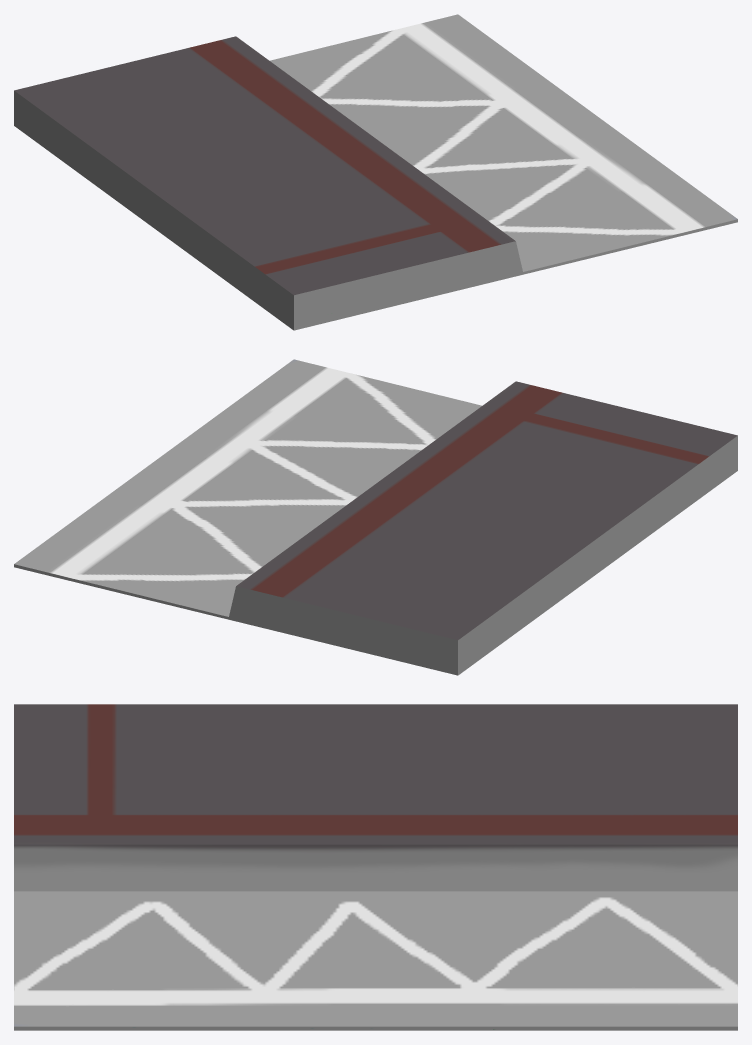
The model's file is RoadBus.glb.
3 renders of one model, top to bottom at view 1: azimuth 30°, elevation 25°; view 2: azimuth 150°, elevation 25°; view 3: azimuth 270°, elevation 25°, orthographic. The views are drawn at different scales.
Visible parts, largest first — view 1: Cube; view 2: Cube; view 3: Cube.
Part boxes in pixels (x1,y1,x2,y2): Cube: [14, 14, 737, 330]; Cube: [14, 359, 737, 675]; Cube: [14, 704, 737, 1030].
Bounding box in the file's own units: 19.33 × 1.47 × 21.1.
Materials: 1 (1 with a texture image).
